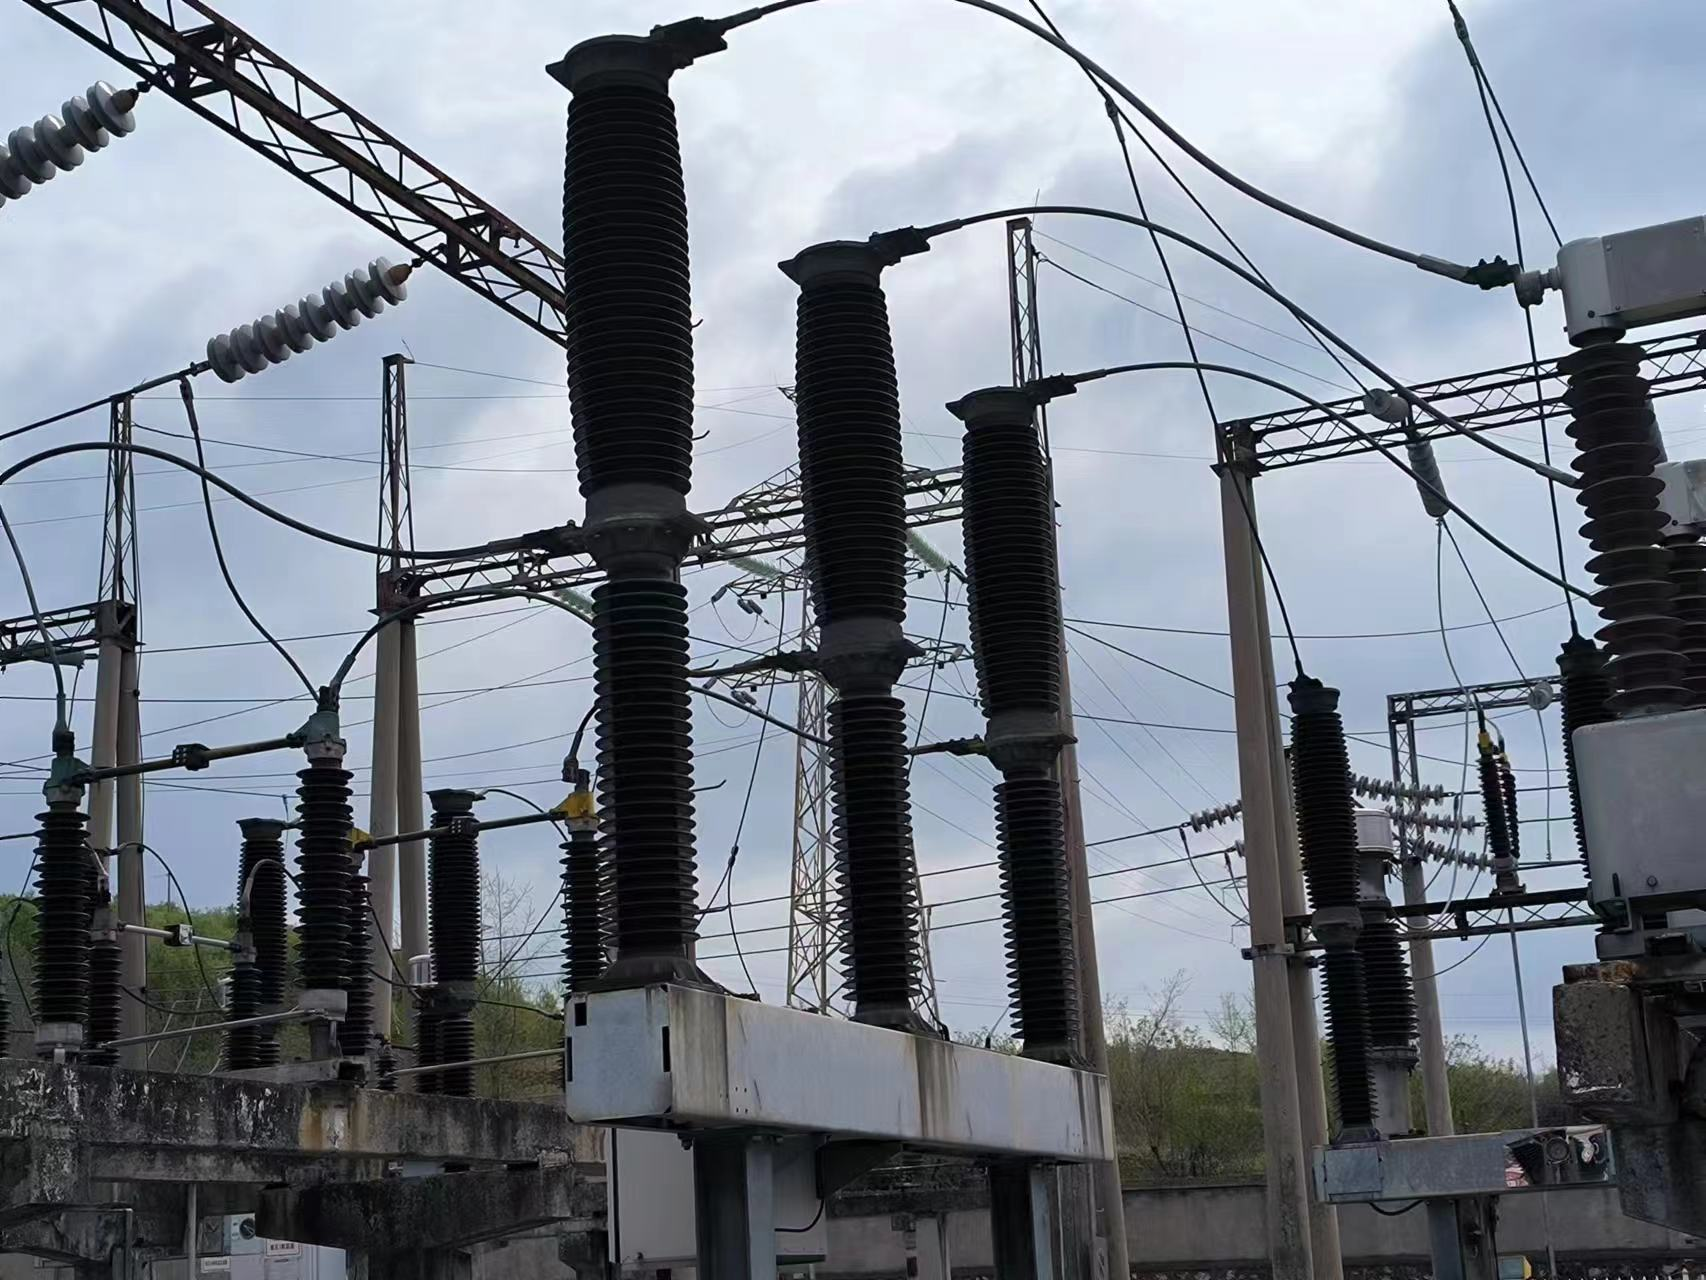Circuit-breaker: (543, 35, 696, 959), (768, 242, 916, 1004), (946, 387, 1081, 1053), (1278, 678, 1383, 1129)
